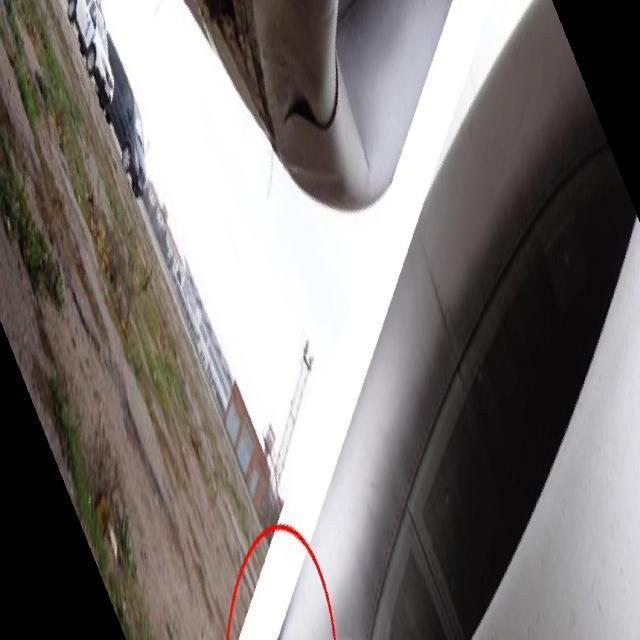crack: (286, 84, 335, 146)
